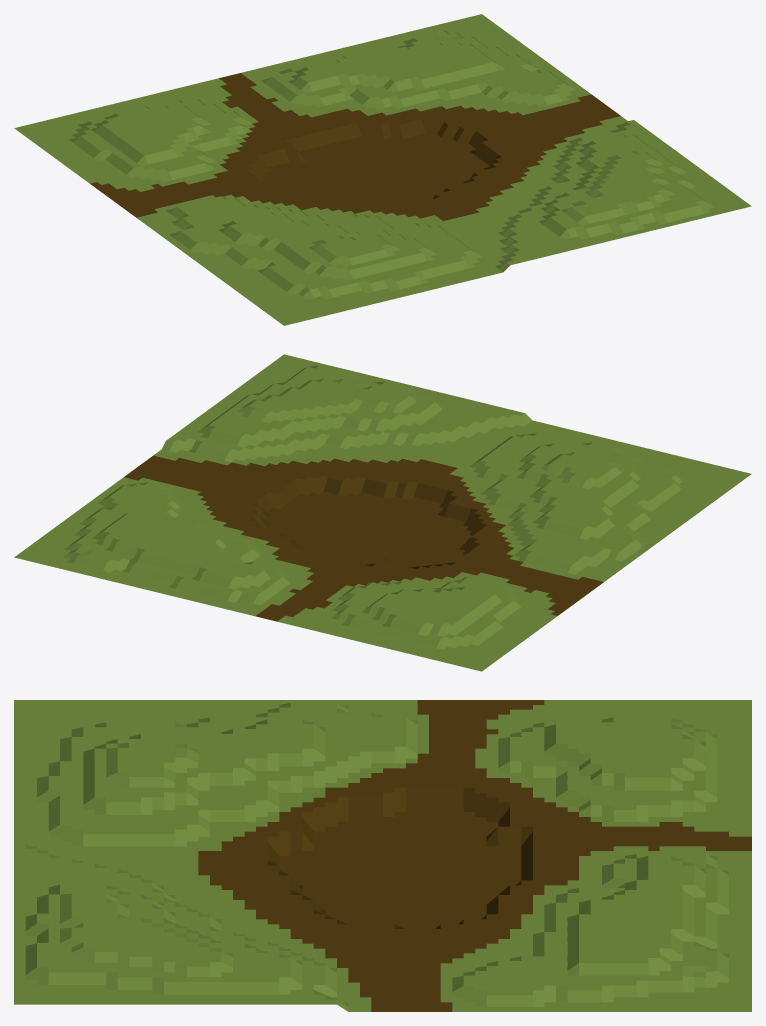
Rendered from terrain.fbx.
3 renders of one model, top to bottom at view 1: azimuth 30°, elevation 25°; view 2: azimuth 150°, elevation 25°; view 3: azimuth 270°, elevation 25°, orthographic. The views are drawn at different scales.
Visible parts, largest first — view 1: Plane; view 2: Plane; view 3: Plane.
Part boxes in pixels (box(x1,y1,x2,y2)): Plane: box(14, 14, 751, 325); Plane: box(14, 354, 751, 671); Plane: box(14, 700, 751, 1011).
Bounding box in the file's own units: 59526 × 3149 × 59526.
